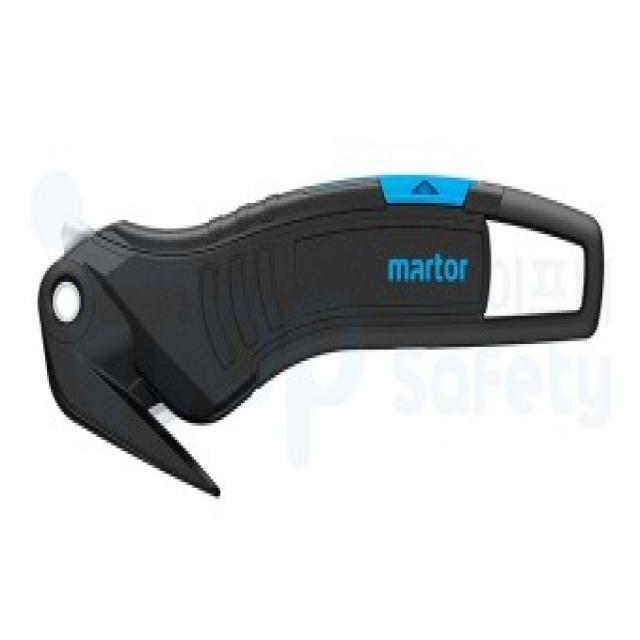cutter: (35, 161, 624, 518)
